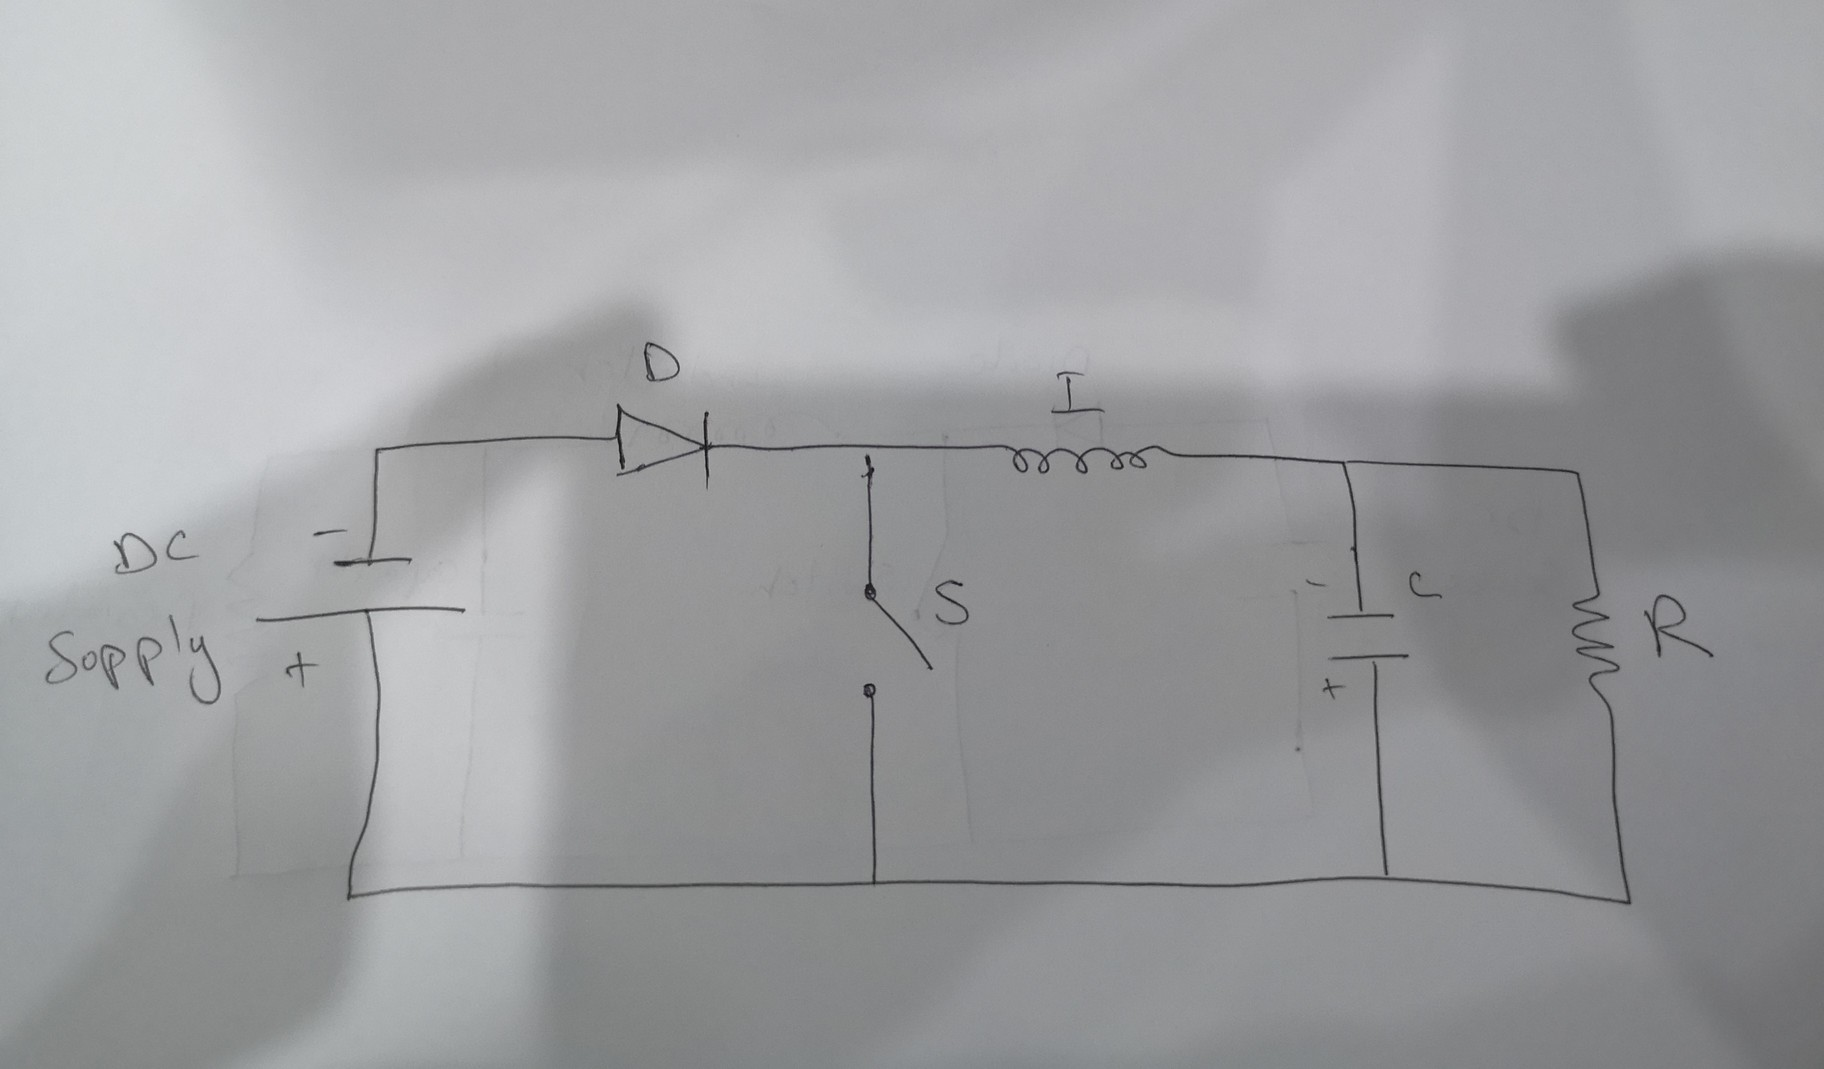capacitor.polarized: (1297, 571, 1417, 704)
diode: (609, 396, 717, 495)
inductor: (1001, 437, 1183, 480)
junction: (850, 433, 883, 473), (1563, 462, 1590, 487), (1332, 451, 1356, 473), (365, 442, 388, 463), (1375, 865, 1397, 887), (1617, 891, 1640, 911), (862, 870, 883, 891), (340, 886, 357, 907)
resistor: (1568, 578, 1620, 701)
switch: (853, 576, 941, 701)
text: (39, 610, 230, 711), (106, 526, 202, 583), (1643, 590, 1717, 663), (1046, 365, 1108, 420), (922, 575, 981, 632), (639, 336, 681, 388), (1406, 568, 1444, 607)
voltage.dc: (244, 521, 485, 696)
